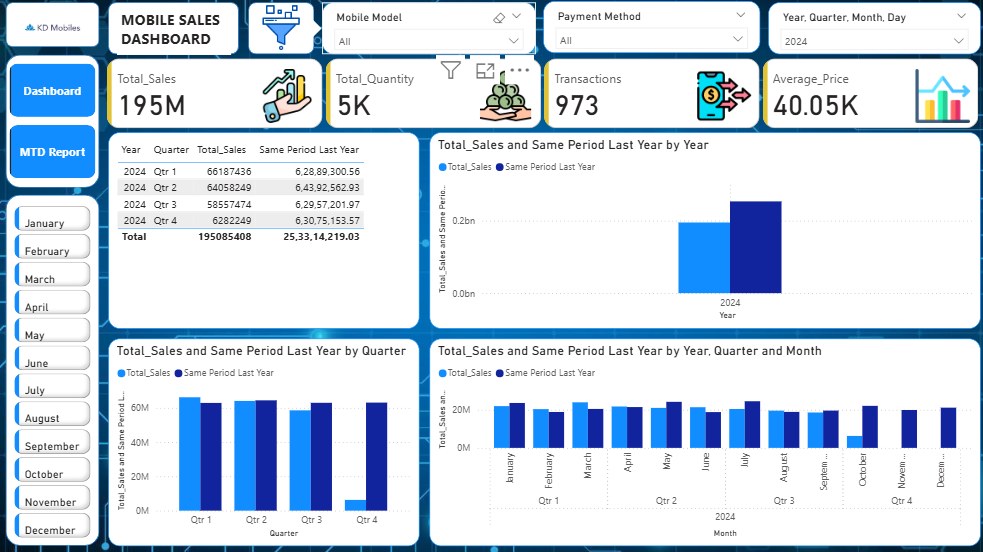

This screenshot's page, from the dashboard's own definition file:
{"tool":"powerbi","page":{"name":"Same Period Last Year","canvas":[1280,720],"ordinal":2},"visuals":[{"type":"shape","box":[11,8.2,120.8,57.6],"z":0},{"type":"image","box":[11,0,120.8,75.5],"z":1000},{"type":"shape","box":[11,75.5,120.8,171.5],"z":2000},{"type":"cardVisual","fields":{"Data":["Sales_Data.Total_Sales","Sales_Data.Total_Quantity","Sales_Data.Transactions","Sales_Data.Average_Price"]},"box":[137.1,75.7,1137.1,100],"z":3000},{"type":"slicer","fields":{"Values":["Sales_Data.Mobile Model"]},"box":[419.9,8.2,275.8,67.2],"z":4000},{"type":"slicer","fields":{"Values":["Sales_Data.Payment Method"]},"box":[705.3,6.9,279.9,67.2],"z":5000},{"type":"slicer","fields":{"Values":["Custom_Calender.Date.Variation.Date Hierarchy.Year","Custom_Calender.Date.Variation.Date Hierarchy.Quarter","Custom_Calender.Date.Variation.Date Hierarchy.Month","Custom_Calender.Date.Variation.Date Hierarchy.Day"]},"box":[994.9,8.2,274.4,67.2],"z":6000},{"type":"shape","box":[323.8,8.2,85.1,67.2],"z":7000},{"type":"image","box":[323.8,6.9,85.1,68.6],"z":8000},{"type":"shape","box":[391.1,27.4,28.8,28.8],"z":9000},{"type":"shape","box":[142.9,8.6,168.6,67.1],"z":10000},{"type":"textbox","box":[154.3,12.9,147.1,62.9],"z":11000},{"type":"shape","box":[11,256.6,120.8,452.8],"z":12000},{"type":"advancedSlicerVisual","fields":{"Values":["Custom_Calender.Date.Variation.Date Hierarchy.Month"]},"box":[17.8,266.2,108.4,443.2],"z":13000},{"type":"tableEx","fields":{"Values":["Custom_Calender.Date.Variation.Date Hierarchy.Year","Custom_Calender.Date.Variation.Date Hierarchy.Quarter","Sales_Data.Total_Sales","Sales_Data.Same Period Last Year"]},"box":[143.5,175.8,401.6,253.2],"z":14000},{"type":"clusteredColumnChart","fields":{"Category":["Custom_Calender.Date.Variation.Date Hierarchy.Year","Custom_Calender.Date.Variation.Date Hierarchy.Quarter"],"Y":["Sales_Data.Total_Sales","Sales_Data.Same Period Last Year"]},"box":[558.1,175.8,711.3,253.2],"z":15000},{"type":"clusteredColumnChart","fields":{"Y":["Sales_Data.Total_Sales","Sales_Data.Same Period Last Year"],"Category":["Custom_Calender.Date.Variation.Date Hierarchy.Year","Custom_Calender.Date.Variation.Date Hierarchy.Quarter","Custom_Calender.Date.Variation.Date Hierarchy.Month","Custom_Calender.Date.Variation.Date Hierarchy.Day"]},"box":[558.1,441.9,711.3,267.7],"z":16000},{"type":"clusteredColumnChart","fields":{"Category":["Custom_Calender.Date.Variation.Date Hierarchy.Year","Custom_Calender.Date.Variation.Date Hierarchy.Quarter"],"Y":["Sales_Data.Total_Sales","Sales_Data.Same Period Last Year"]},"box":[143.5,441.9,401.6,267.7],"z":17000},{"type":"pageNavigator","box":[16.1,87.1,111.3,148.4],"z":17001}]}

Visuals, with their boxes in screenshot pixels (x1, y1, x2, y2), scaled from the page's 1280x720 canvas onto the 983x552 screenshot:
shape: {"left": 8, "top": 6, "right": 101, "bottom": 50}
image: {"left": 8, "top": 0, "right": 101, "bottom": 58}
shape: {"left": 8, "top": 58, "right": 101, "bottom": 189}
cardVisual - Sales_Data.Total_Sales x Sales_Data.Total_Quantity: {"left": 105, "top": 58, "right": 979, "bottom": 135}
slicer - Sales_Data.Mobile Model: {"left": 322, "top": 6, "right": 534, "bottom": 58}
slicer - Sales_Data.Payment Method: {"left": 542, "top": 5, "right": 757, "bottom": 57}
slicer - Custom_Calender.Date.Variation.Date Hierarchy.Year x Custom_Calender.Date.Variation.Date Hierarchy.Quarter: {"left": 764, "top": 6, "right": 975, "bottom": 58}
shape: {"left": 249, "top": 6, "right": 314, "bottom": 58}
image: {"left": 249, "top": 5, "right": 314, "bottom": 58}
shape: {"left": 300, "top": 21, "right": 322, "bottom": 43}
shape: {"left": 110, "top": 7, "right": 239, "bottom": 58}
textbox: {"left": 118, "top": 10, "right": 231, "bottom": 58}
shape: {"left": 8, "top": 197, "right": 101, "bottom": 544}
advancedSlicerVisual - Custom_Calender.Date.Variation.Date Hierarchy.Month: {"left": 14, "top": 204, "right": 97, "bottom": 544}
tableEx - Custom_Calender.Date.Variation.Date Hierarchy.Year x Custom_Calender.Date.Variation.Date Hierarchy.Quarter: {"left": 110, "top": 135, "right": 419, "bottom": 329}
clusteredColumnChart - Custom_Calender.Date.Variation.Date Hierarchy.Year x Custom_Calender.Date.Variation.Date Hierarchy.Quarter: {"left": 429, "top": 135, "right": 975, "bottom": 329}
clusteredColumnChart - Sales_Data.Total_Sales x Sales_Data.Same Period Last Year: {"left": 429, "top": 339, "right": 975, "bottom": 544}
clusteredColumnChart - Custom_Calender.Date.Variation.Date Hierarchy.Year x Custom_Calender.Date.Variation.Date Hierarchy.Quarter: {"left": 110, "top": 339, "right": 419, "bottom": 544}
pageNavigator: {"left": 12, "top": 67, "right": 98, "bottom": 181}
